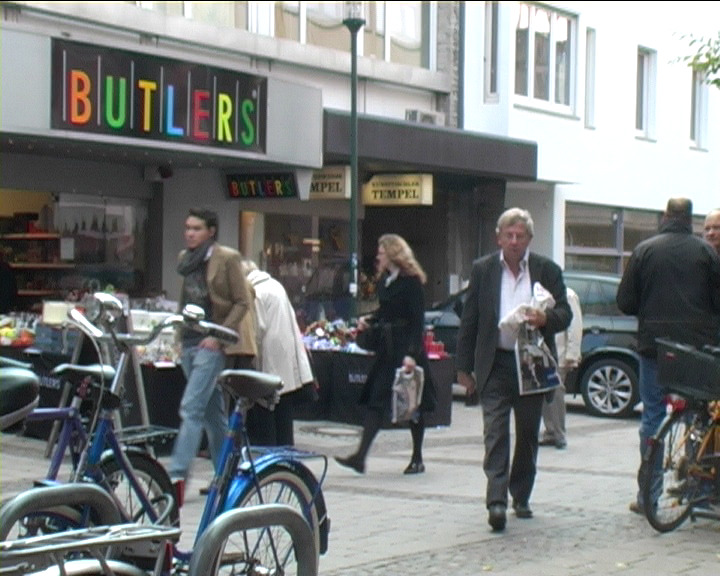undeflect: (471, 209, 565, 297)
